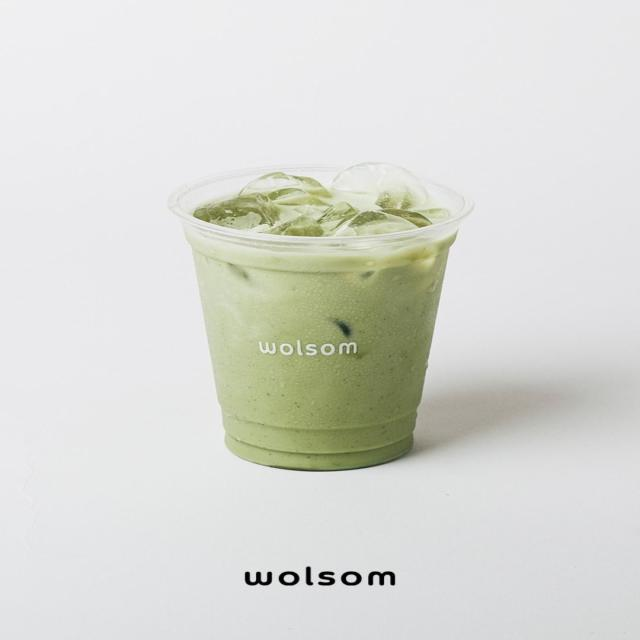plastic cup: (166, 161, 476, 471)
